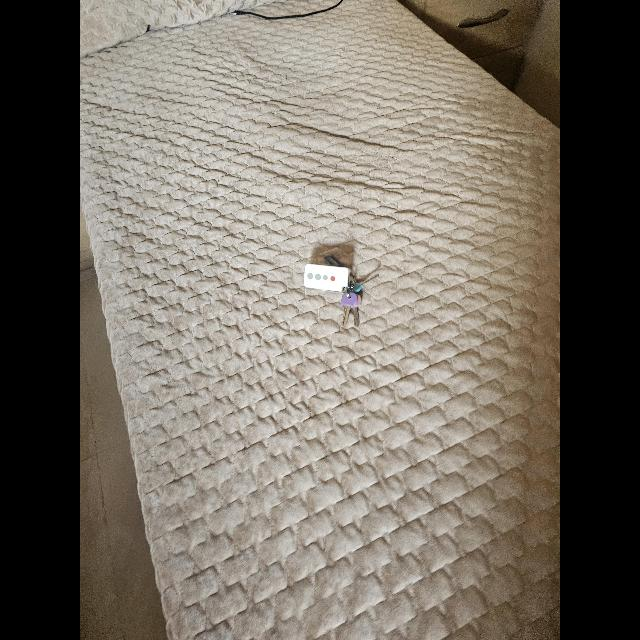Keys: (306, 252, 374, 328)
